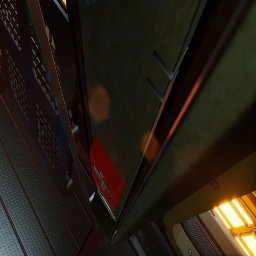FireAlarm ,: (89, 138, 124, 211)
